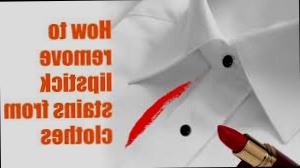lipstick: (121, 104, 163, 146), (156, 81, 193, 113)
